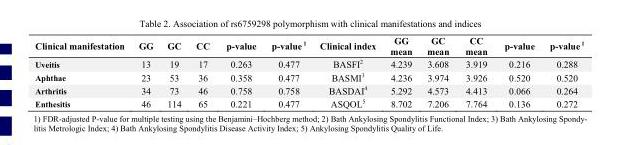table: (34, 34, 583, 108)
table column: (34, 34, 130, 108), (312, 34, 382, 108), (263, 34, 312, 108), (217, 34, 263, 108), (495, 34, 541, 108), (541, 34, 583, 108), (456, 34, 495, 108), (418, 34, 456, 108), (382, 34, 418, 108), (130, 34, 159, 108), (159, 34, 188, 108), (188, 34, 217, 108)
table column header: (34, 34, 583, 56)
table row: (34, 34, 583, 56), (34, 69, 583, 83), (34, 56, 583, 69), (34, 83, 583, 96), (34, 96, 583, 108)
